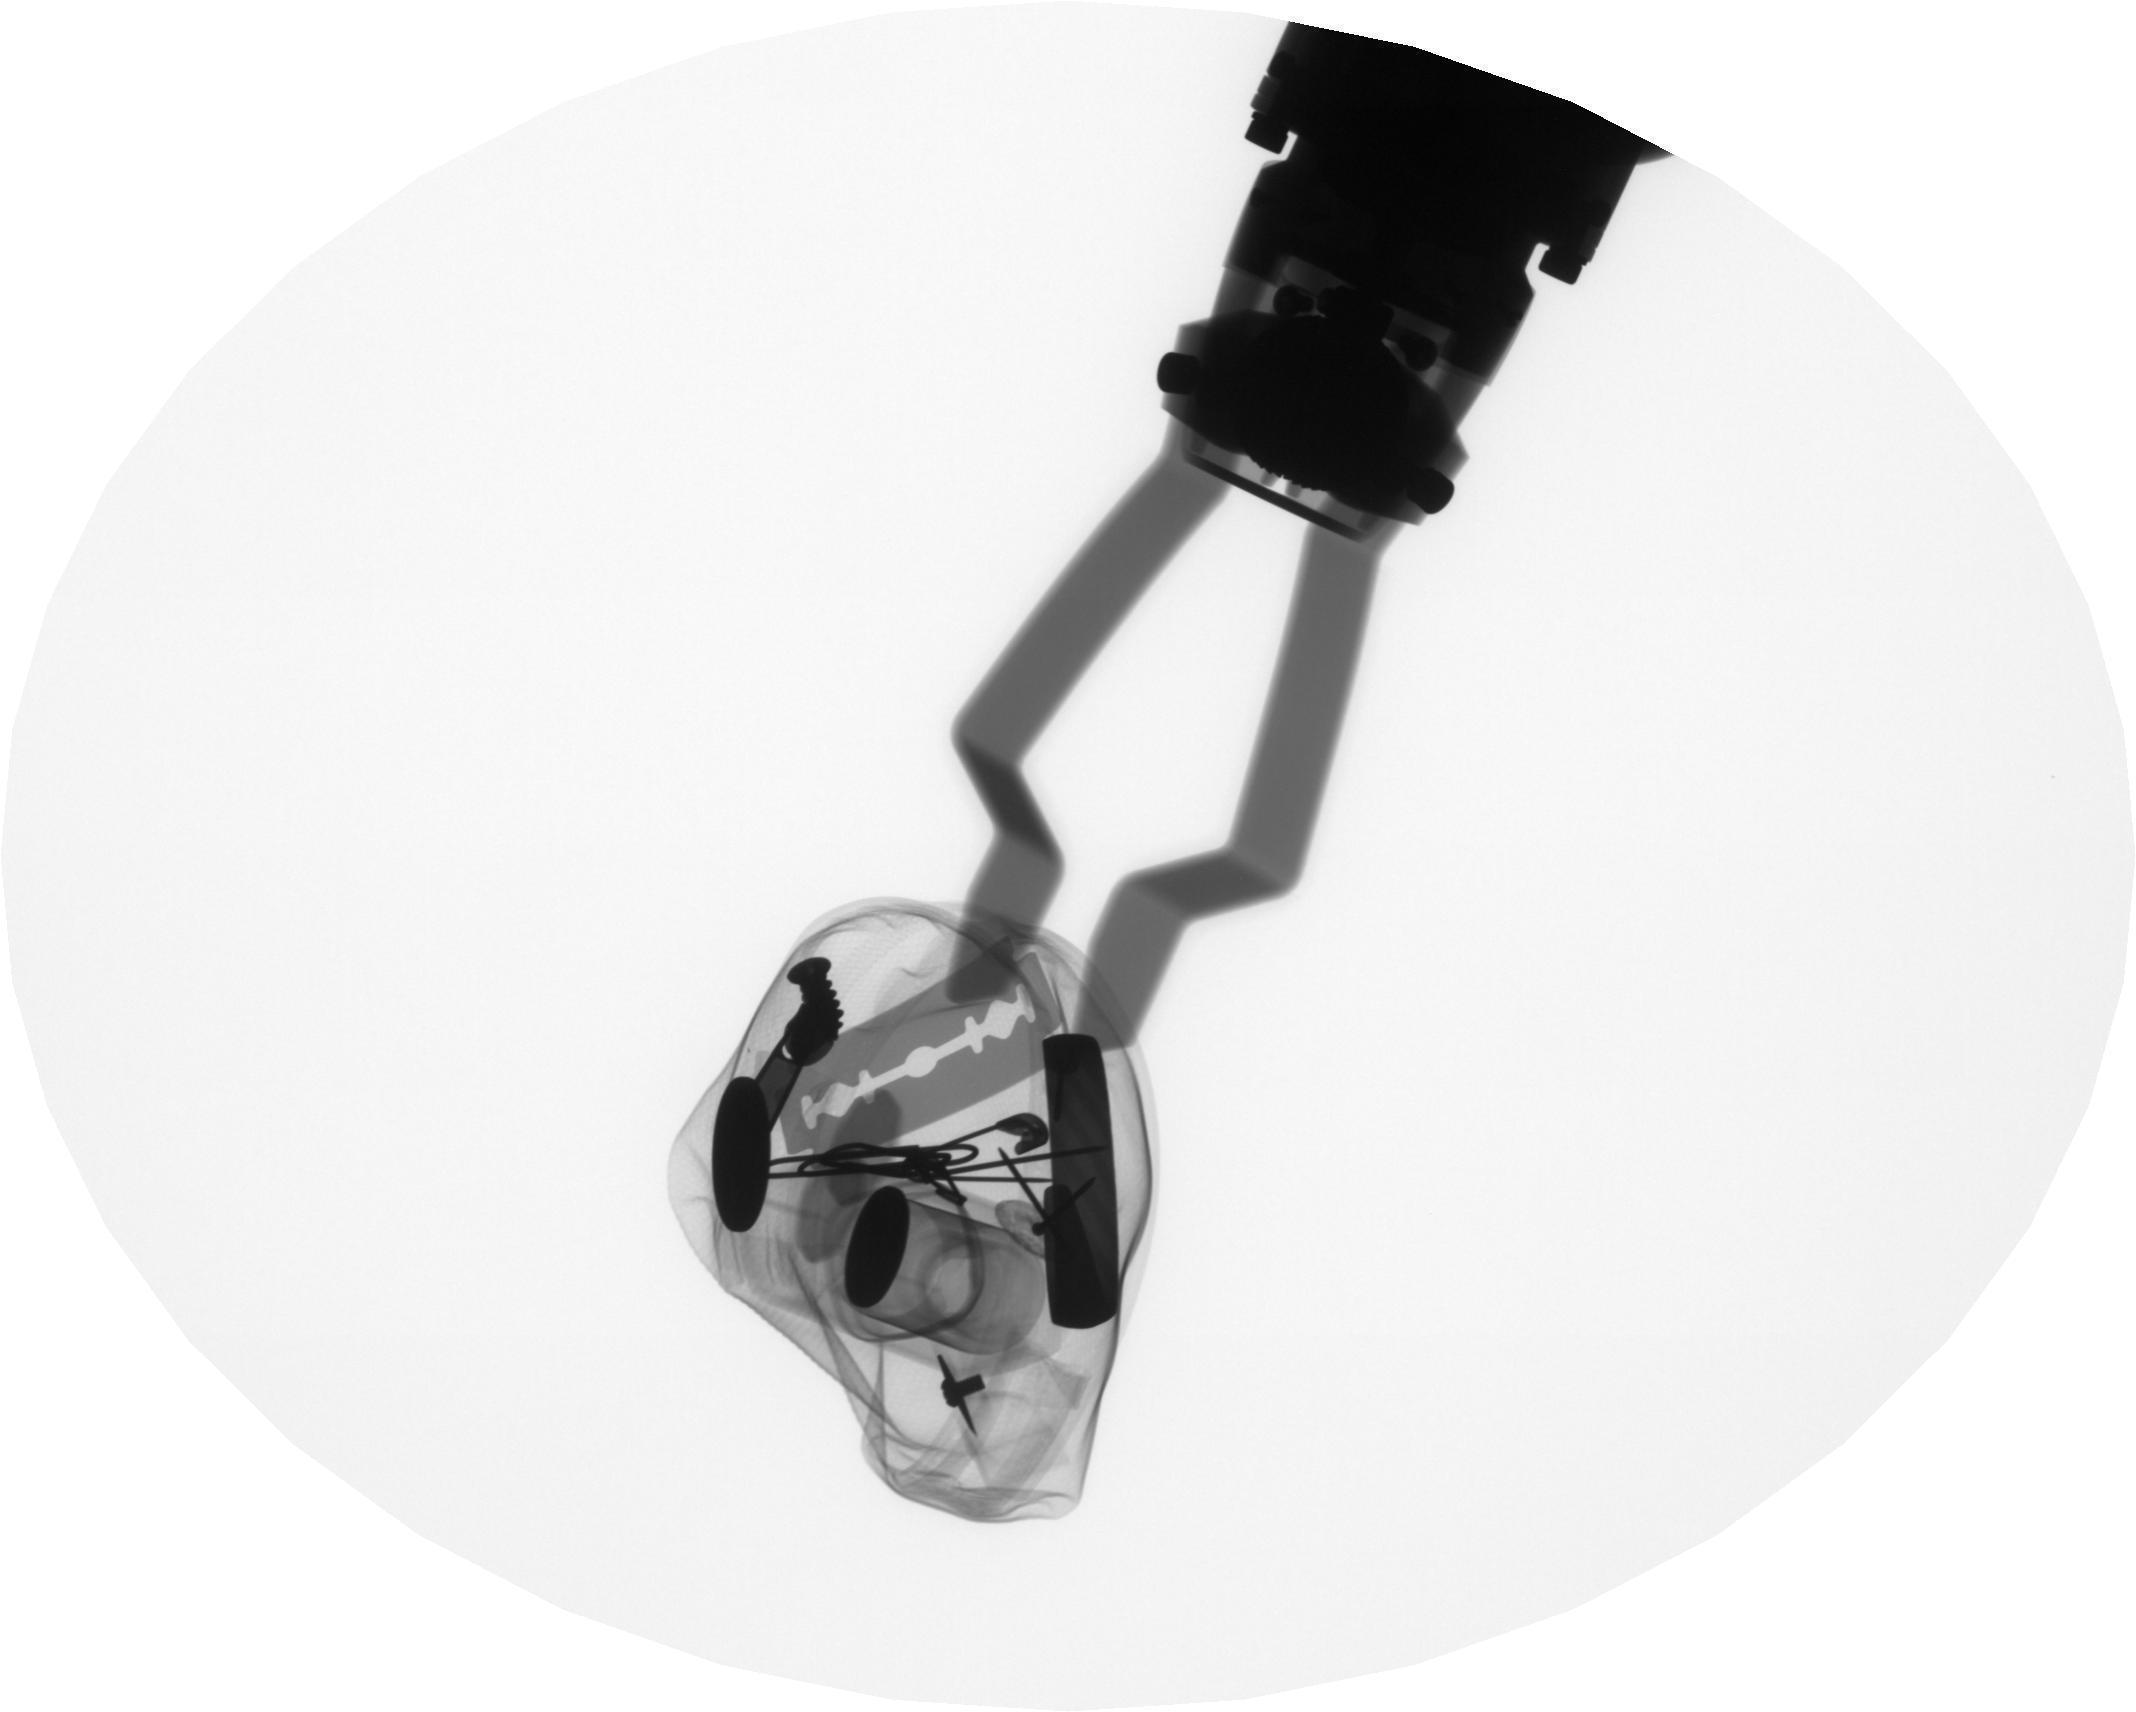RazorBlade: (760, 921, 1099, 1181)
